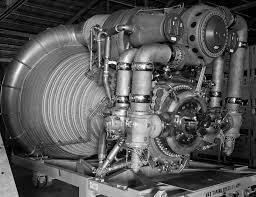thruster: (1, 26, 116, 163)
